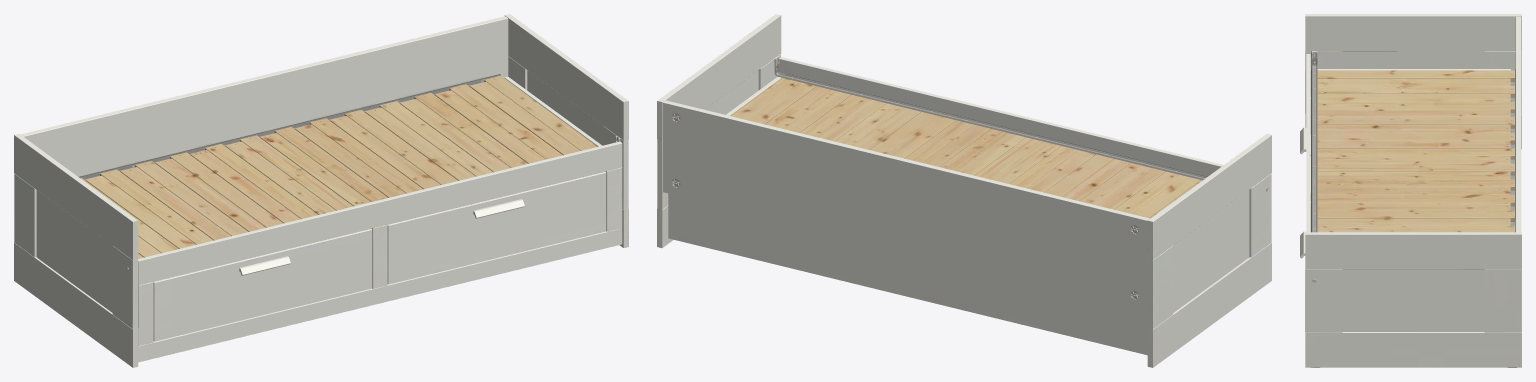
3 views of the same model, side by side, from view 1: azimuth 30°, elevation 25°; view 2: azimuth 150°, elevation 25°; view 3: azimuth 270°, elevation 25° (orthographic). The views are drawn at different scales.
Visible parts, largest first — view 1: Mesh_0; view 2: Mesh_0; view 3: Mesh_0.
Part boxes in pixels (x1=…): Mesh_0: x1=14, y1=14, x2=628, y2=367; Mesh_0: x1=657, y1=14, x2=1271, y2=367; Mesh_0: x1=1300, y1=14, x2=1521, y2=367.
Bounding box in the file's own units: 2.05 × 0.5799 × 0.8699.
Materials: 1 (1 with a texture image).
